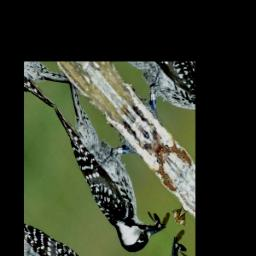Woodpecker: (34, 78, 183, 256)
